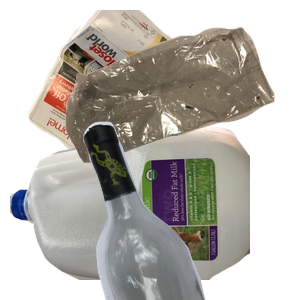glass: (81, 120, 300, 300)
paper: (23, 10, 245, 190)
plastic: (10, 120, 250, 300)
trash: (63, 24, 300, 179)
